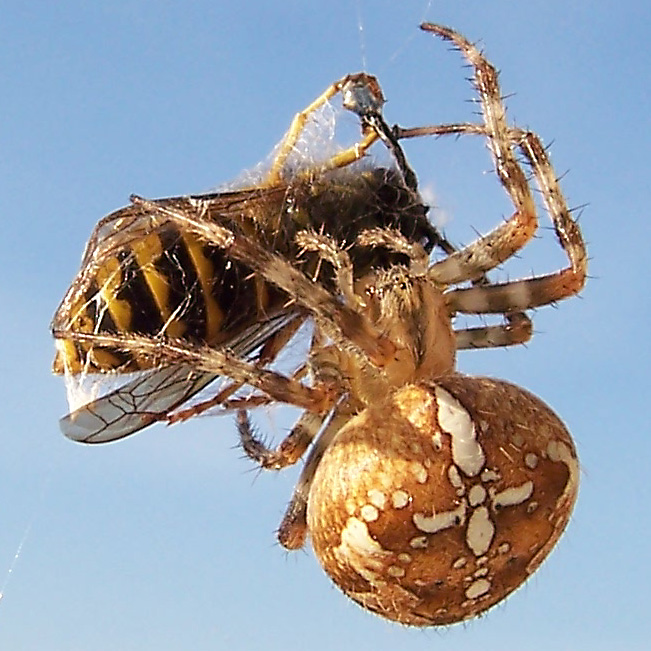spider: (41, 5, 622, 634)
